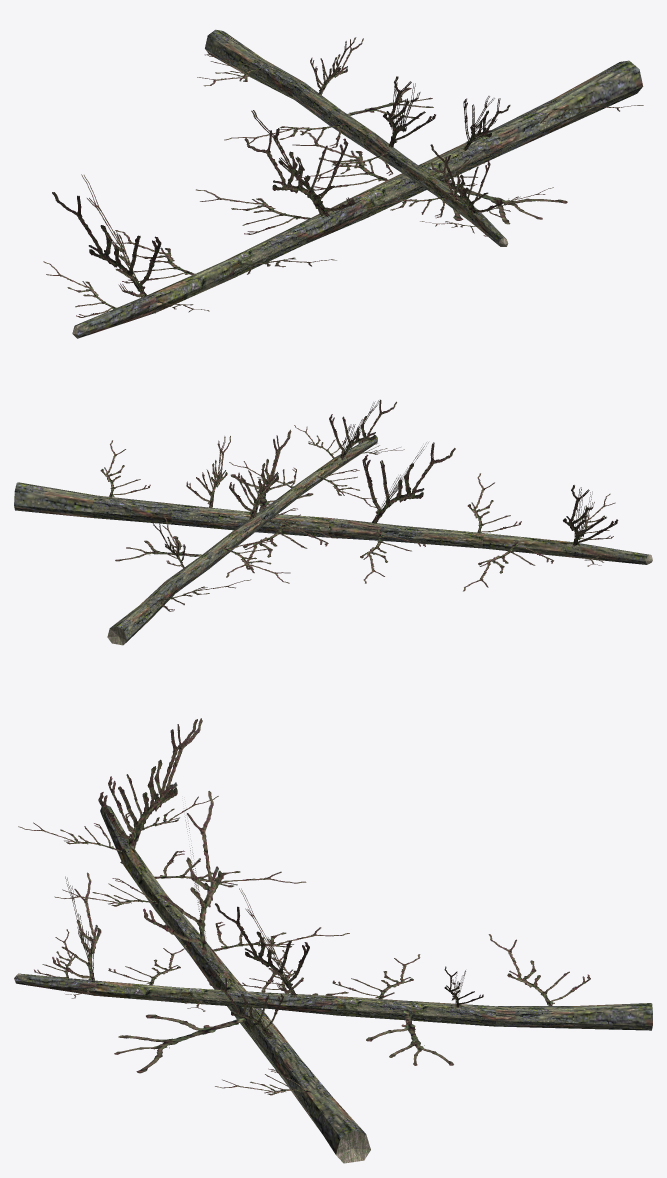
Rendered from fallen-3.glb.
The picture shows the model from 3 angles, top to bottom: view 1: azimuth 30°, elevation 25°; view 2: azimuth 150°, elevation 25°; view 3: azimuth 270°, elevation 25°; orthographic projection. The views are drawn at different scales.
Visible parts, largest first — view 1: fallen-3; view 2: fallen-3; view 3: fallen-3.
Part boxes in pixels (bbox=[...]): fallen-3: bbox=[43, 29, 643, 338]; fallen-3: bbox=[14, 399, 652, 645]; fallen-3: bbox=[14, 718, 652, 1163].
Size of the model in its own units: 11.79 by 3.08 by 9.06.
Materials: 1 (1 with a texture image).
